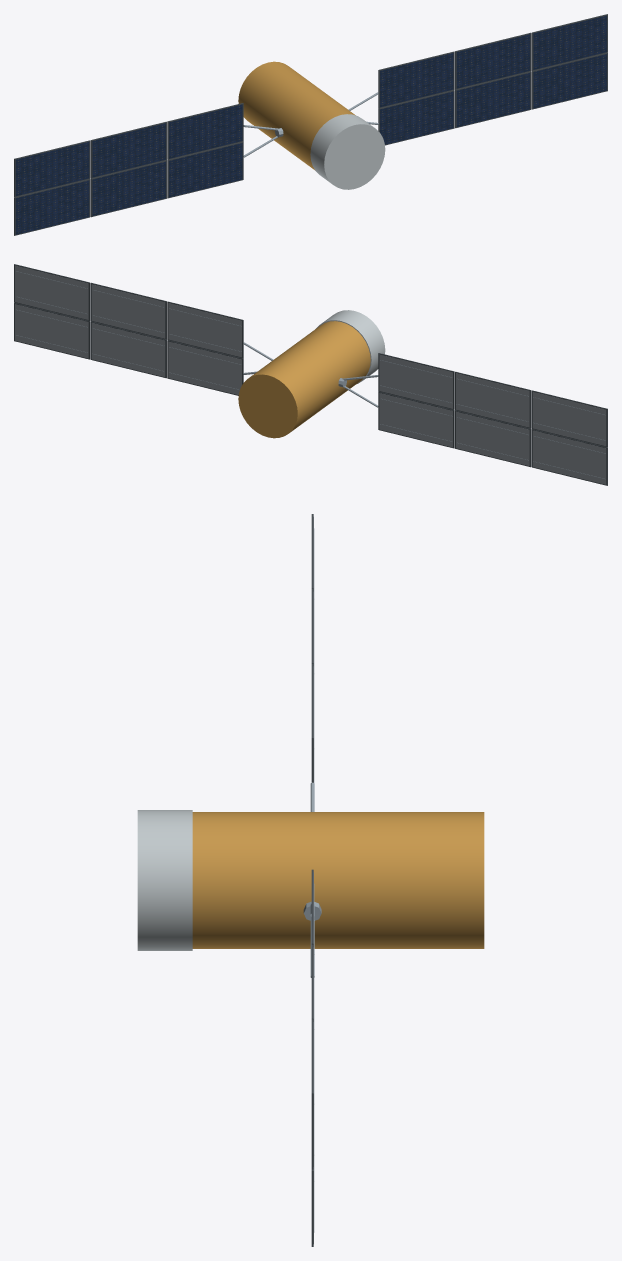
Rendered from ref-kaur-4-39375.glb.
The picture shows the model from 3 angles, top to bottom: view 1: azimuth 30°, elevation 25°; view 2: azimuth 150°, elevation 25°; view 3: azimuth 270°, elevation 25°; orthographic projection. The views are drawn at different scales.
Visible parts, largest first — view 1: Solar cell panel (×12), Service barrel, Solar panel frame (×12), Equipment flange; view 2: Rear array substrate (×12), Service barrel, Solar panel frame (×12), Equipment flange; view 3: Service barrel, Equipment flange.
Boxes of the visible parts, box(x1,y1,x2,y2) form: Solar cell panel (×12): box(15, 15, 606, 234); Service barrel: box(238, 61, 355, 169); Solar panel frame (×12): box(14, 14, 607, 235); Equipment flange: box(310, 114, 385, 189); Rear array substrate (×12): box(15, 265, 606, 484); Service barrel: box(238, 321, 370, 438); Solar panel frame (×12): box(14, 264, 607, 485); Equipment flange: box(316, 310, 385, 383); Service barrel: box(192, 812, 484, 948); Equipment flange: box(137, 810, 192, 950).
Bounding box in the file's own units: 19.97 × 2.47 × 5.05.
6 materials, 1 textured.
